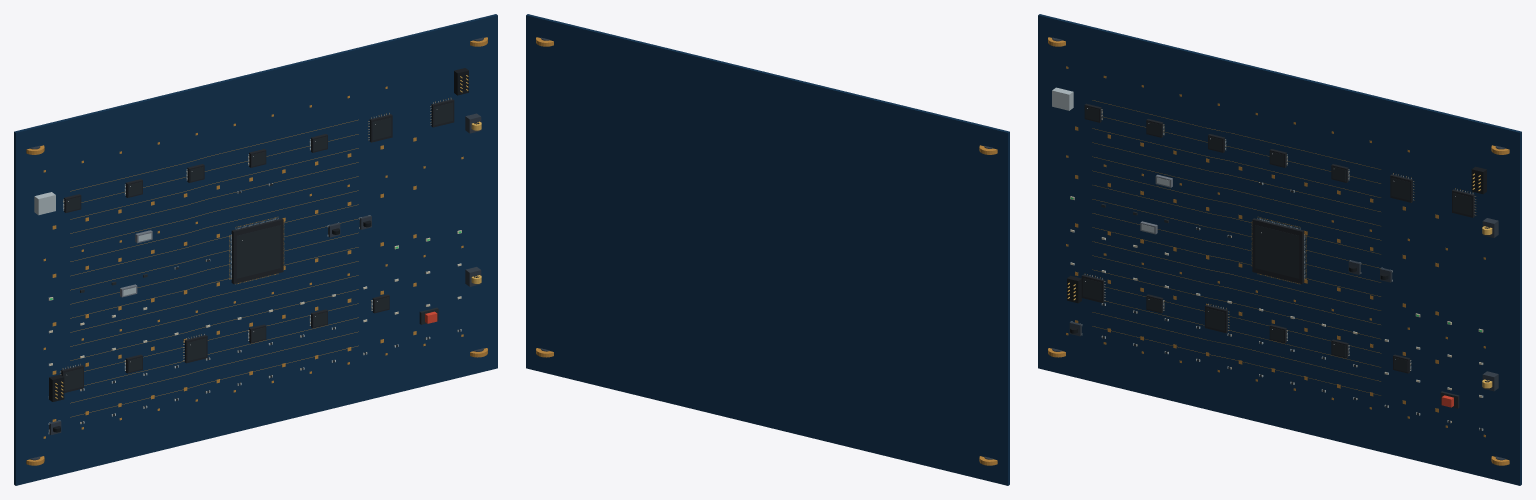
The model's file is L102_Assembled_Reference.fbx.
3 views of the same model, side by side, from view 1: azimuth 30°, elevation 25°; view 2: azimuth 150°, elevation 25°; view 3: azimuth 330°, elevation 25° (orthographic).
Parts seen in each view (by area): view 1: L102_Assembled_Reference; view 2: L102_Assembled_Reference; view 3: L102_Assembled_Reference.
Part boxes in pixels (x1=…): L102_Assembled_Reference: x1=14, y1=14, x2=497, y2=485; L102_Assembled_Reference: x1=526, y1=14, x2=1009, y2=485; L102_Assembled_Reference: x1=1038, y1=14, x2=1521, y2=485.
Bounding box in the file's own units: 0.25 × 0.175 × 0.013.
